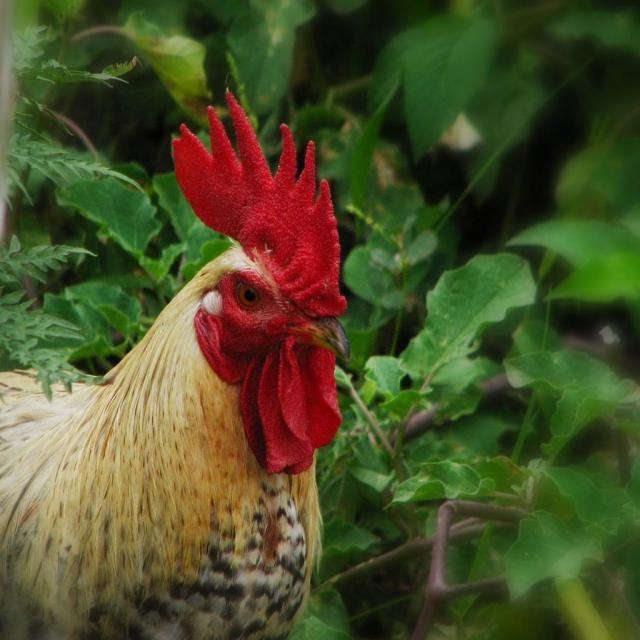Chicken: (0, 90, 351, 640)
